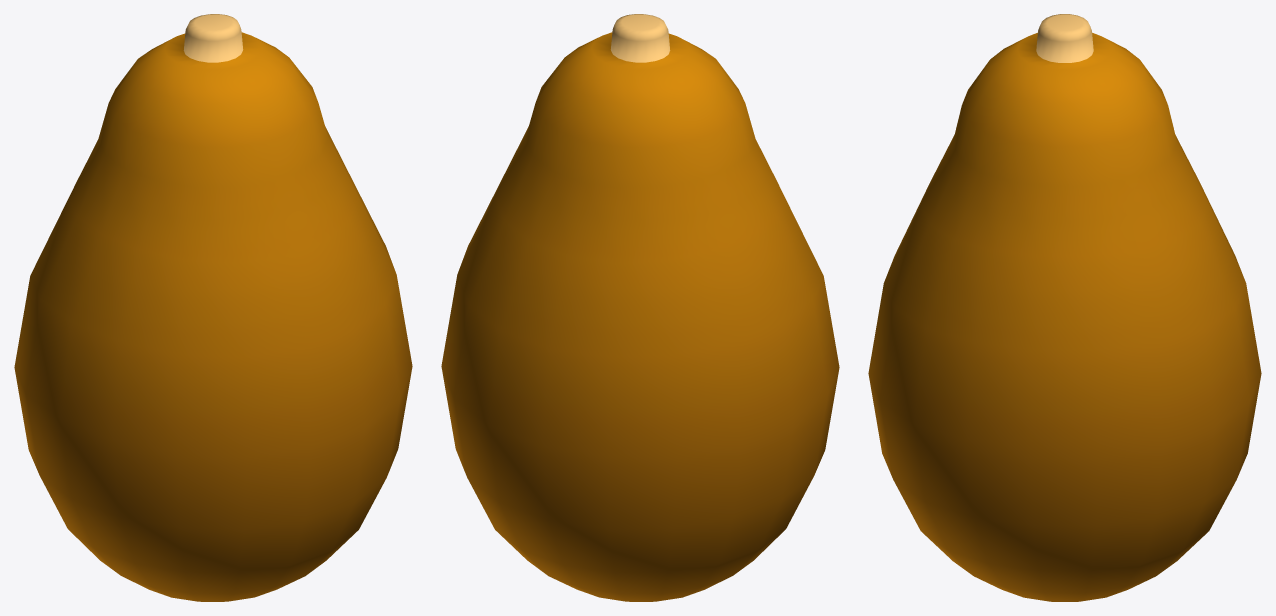
Rendered from Papaya.fbx.
3 renders of one model, left to right at view 1: azimuth 30°, elevation 25°; view 2: azimuth 150°, elevation 25°; view 3: azimuth 270°, elevation 25°, orthographic.
Parts seen in each view (by area): view 1: Papaya; view 2: Papaya; view 3: Papaya.
Boxes of the visible parts, bbox=[...] form: Papaya: bbox=[14, 14, 412, 601]; Papaya: bbox=[441, 14, 839, 601]; Papaya: bbox=[868, 14, 1261, 601].
Bounding box in the file's own units: 105 × 168 × 105.
